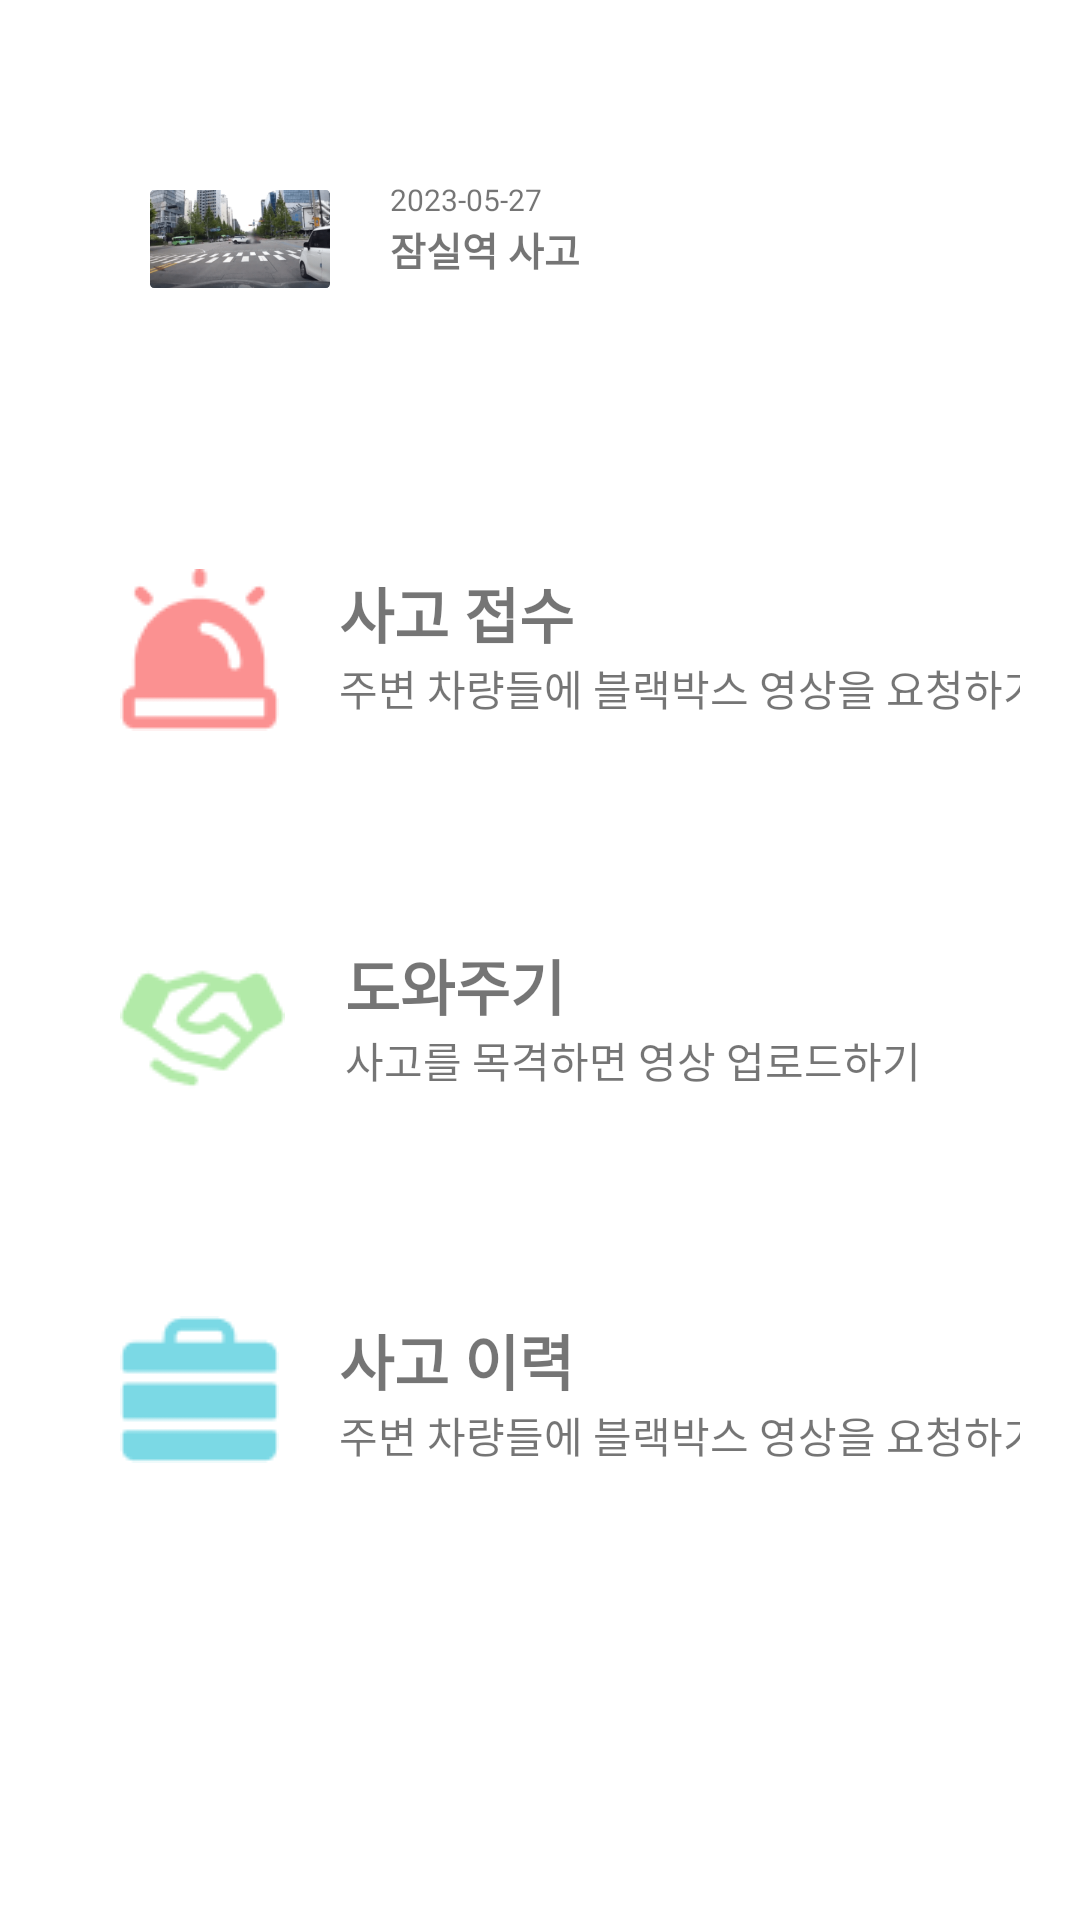

Where icons sit on this 1080px×1920px app screen, as region(x1, y1, x2, y2):
accident help: region(120, 971, 285, 1086)
